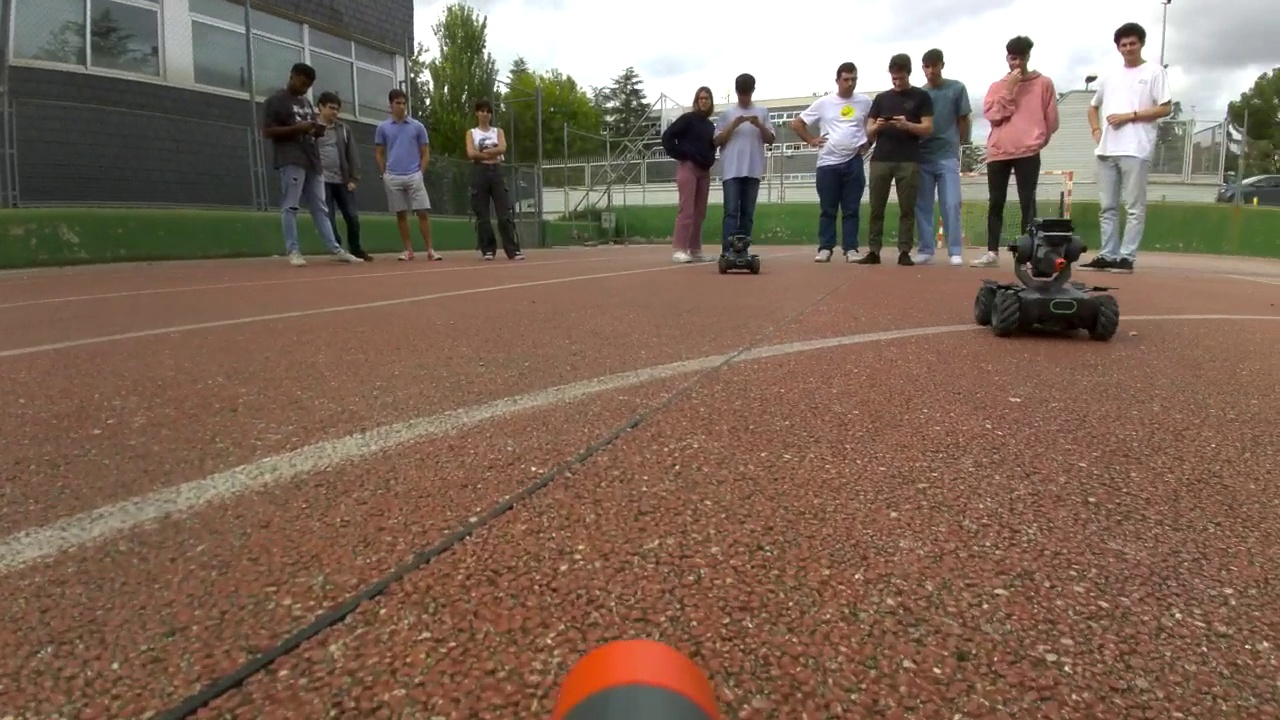robot: (975, 218, 1119, 342), (718, 232, 761, 276)
